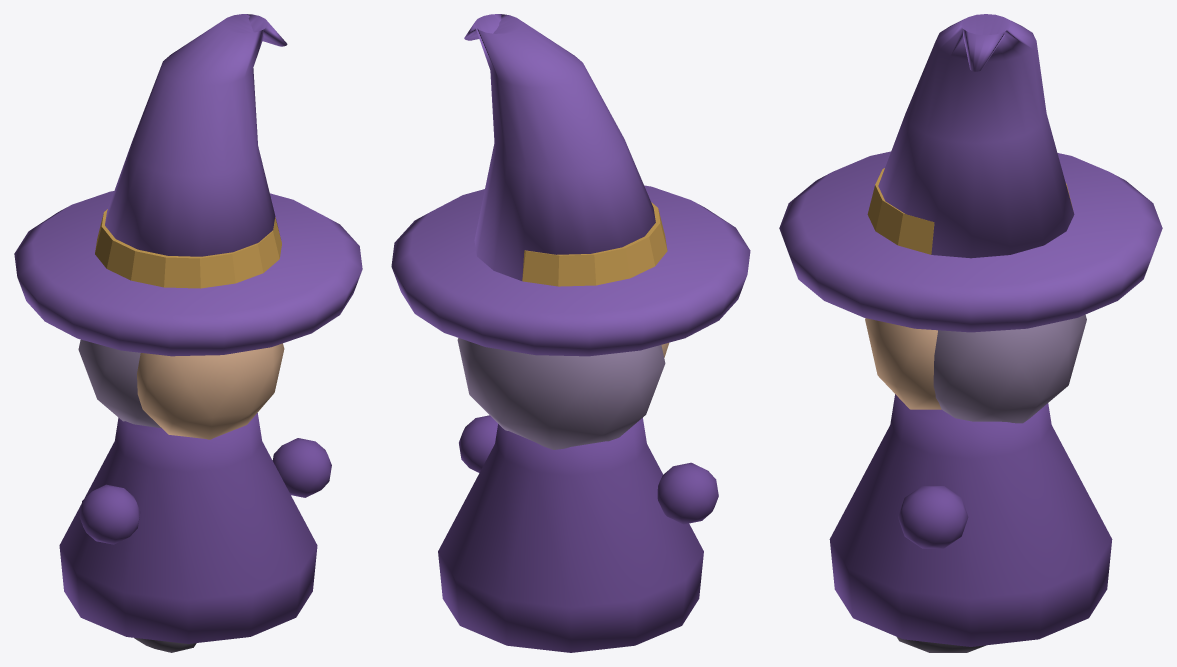
Rendered from witch_body.glb.
3 renders of one model, left to right at view 1: azimuth 30°, elevation 25°; view 2: azimuth 150°, elevation 25°; view 3: azimuth 270°, elevation 25°, orthographic. The views are drawn at different scales.
Parts seen in each view (by area): view 1: Flowing simple robe, Broad hat brim, Crooked soft hat crown, Face, Hat gold band, Hair mass, Mitten, Mitten.001; view 2: Flowing simple robe, Broad hat brim, Crooked soft hat crown, Hair mass, Hat gold band, Mitten, Mitten.001; view 3: Flowing simple robe, Broad hat brim, Crooked soft hat crown, Hair mass, Face, Mitten.001, Hat gold band, Boot.001.
Part boxes in pixels (box(x1,y1,x2,y2)): Flowing simple robe: box(59, 413, 317, 643); Broad hat brim: box(14, 191, 362, 356); Crooked soft hat crown: box(105, 14, 287, 256); Face: box(137, 343, 284, 439); Hat gold band: box(95, 209, 281, 288); Hair mass: box(78, 339, 161, 428); Mitten: box(79, 484, 140, 544); Mitten.001: box(272, 438, 331, 497); Flowing simple robe: box(438, 418, 703, 652); Broad hat brim: box(391, 185, 750, 356); Crooked soft hat crown: box(464, 14, 655, 280); Hair mass: box(457, 338, 665, 449); Hat gold band: box(522, 202, 667, 286); Mitten: box(657, 462, 718, 524); Mitten.001: box(459, 415, 497, 472); Flowing simple robe: box(829, 394, 1112, 646); Broad hat brim: box(779, 151, 1162, 332); Crooked soft hat crown: box(878, 14, 1074, 258); Hair mass: box(933, 314, 1086, 423); Face: box(865, 318, 941, 409); Mitten.001: box(898, 486, 968, 548); Hat gold band: box(867, 168, 1072, 254); Boot.001: box(897, 637, 985, 652).
Bounding box in the file's own units: 0.76 × 1.4 × 0.76.
